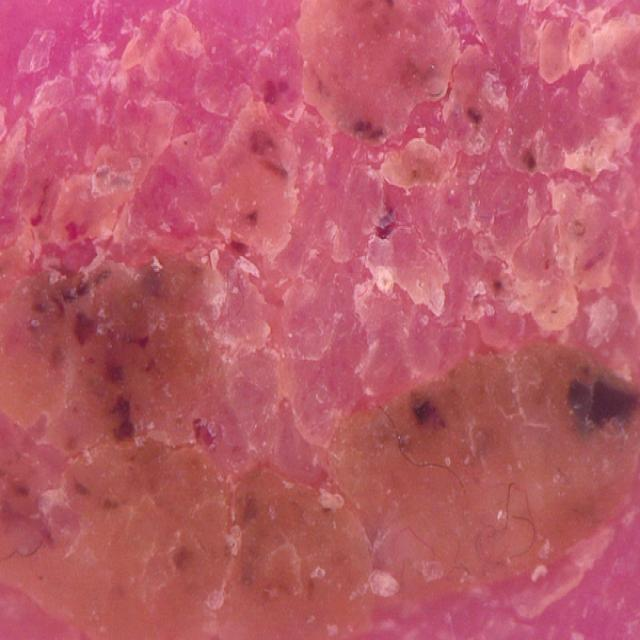Skin-Cancer Pigmented benign keratosis: (1, 4, 633, 640)
